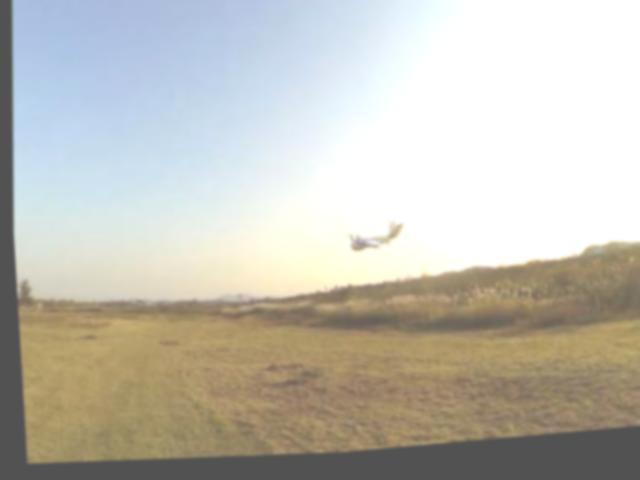uav: (336, 216, 408, 273)
